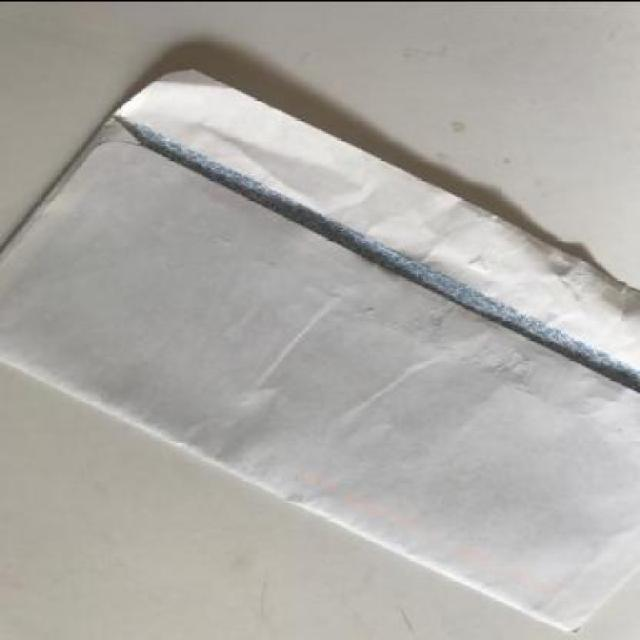paper: (1, 68, 638, 634)
